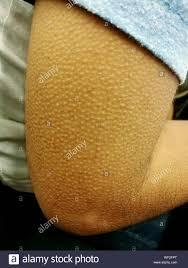Goosebumps: (25, 0, 187, 234)
